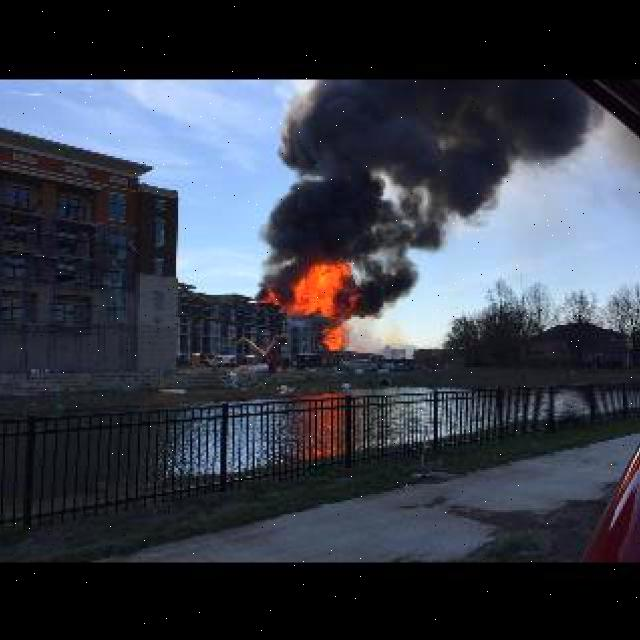fire: (255, 259, 363, 347)
smoke: (254, 79, 586, 285), (333, 269, 422, 319)
